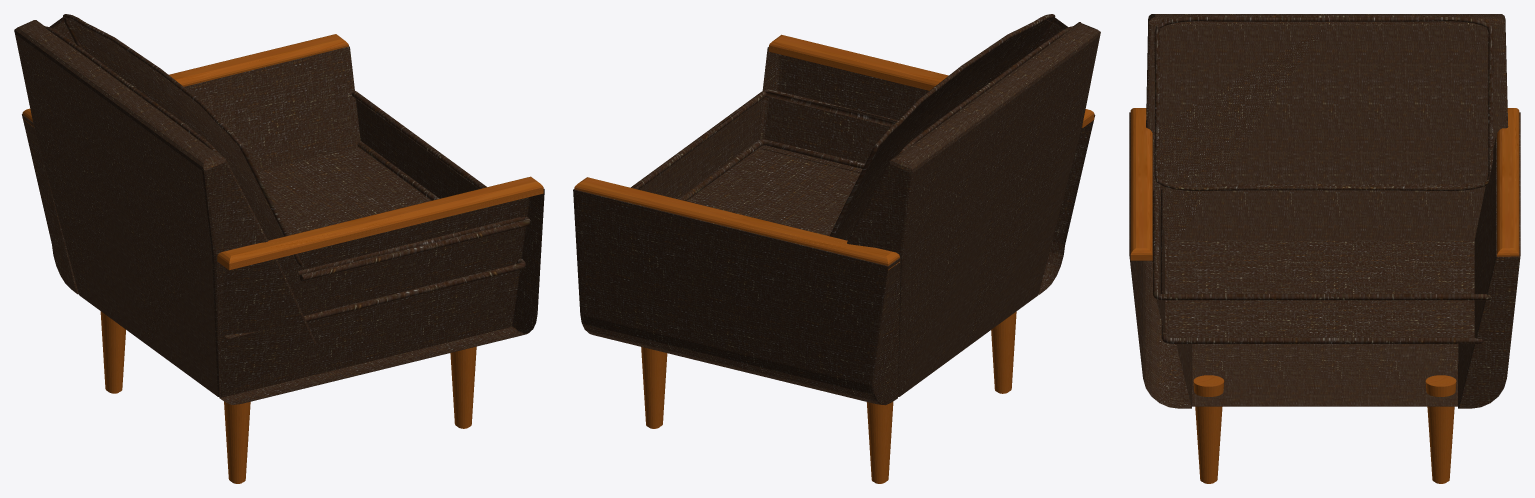
File: danielchair1git.glb
3 renders of one model, left to right at view 1: azimuth 30°, elevation 25°; view 2: azimuth 150°, elevation 25°; view 3: azimuth 270°, elevation 25°, orthographic. The views are drawn at different scales.
Parts seen in each view (by area): view 1: Cylinder.005, Cylinder.001; view 2: Cylinder.005, Cylinder.001; view 3: Cylinder.005, Cylinder.001.
Part boxes in pixels (x1,y1,x2,y2): Cylinder.005: (14, 14, 544, 404); Cylinder.001: (22, 34, 543, 483); Cylinder.005: (573, 14, 1100, 405); Cylinder.001: (574, 34, 1094, 483); Cylinder.005: (1129, 14, 1520, 408); Cylinder.001: (1130, 108, 1519, 483).
Bounding box in the file's own units: 1.15 × 1.23 × 1.24.
2 materials, 2 textured.
